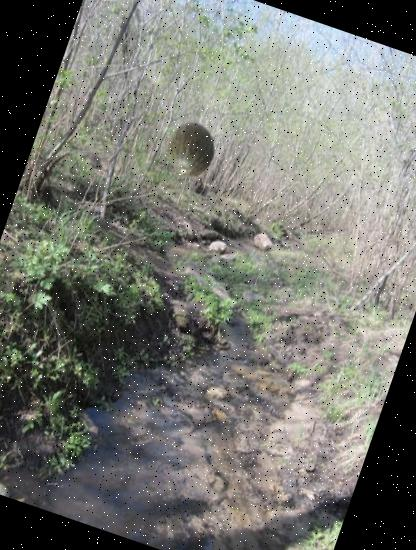Melon: (156, 115, 226, 184)
